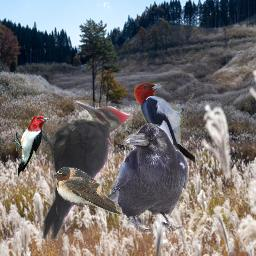Crow: (102, 122, 189, 234)
Swallow: (53, 167, 122, 214)
Woodpecker: (34, 100, 133, 239), (132, 79, 199, 167), (11, 115, 51, 179)
